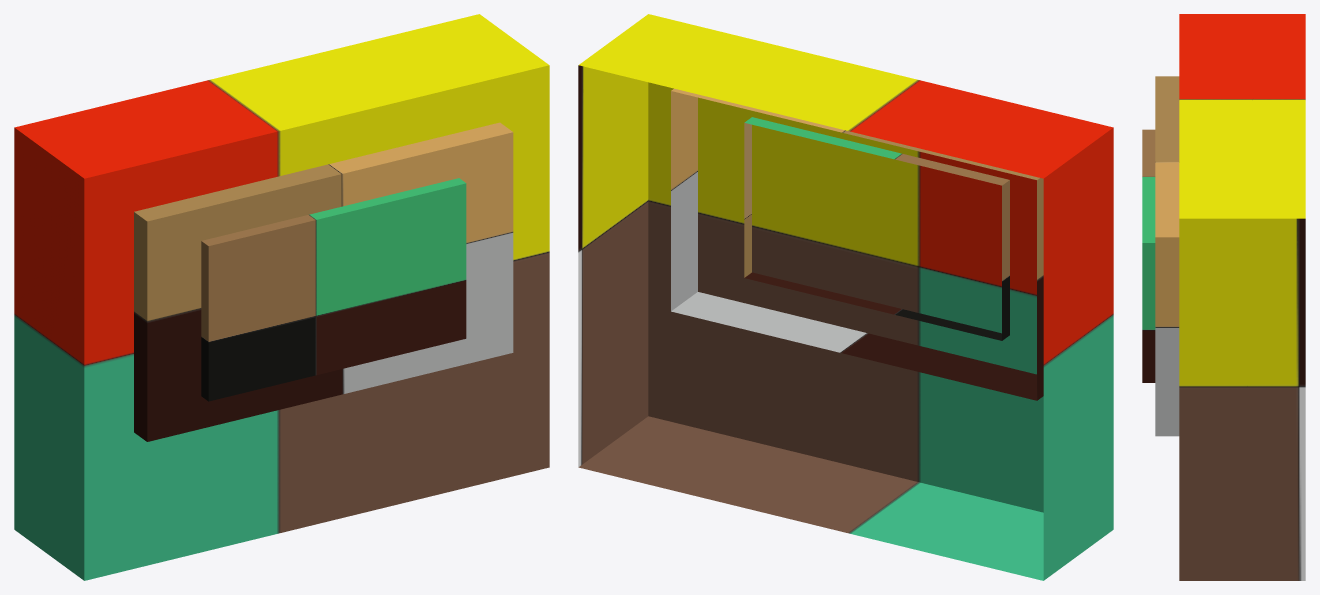
Rendered from New Alarm Week 2.fbx.
3 renders of one model, left to right at view 1: azimuth 30°, elevation 25°; view 2: azimuth 150°, elevation 25°; view 3: azimuth 270°, elevation 25°, orthographic. The views are drawn at different scales.
Visible parts, largest first — view 1: pasted__pCube4; view 2: pasted__pCube4; view 3: pasted__pCube4.
Boxes of the visible parts, <box> form: pasted__pCube4: <box>14,14,549,580</box>; pasted__pCube4: <box>578,14,1113,580</box>; pasted__pCube4: <box>1142,14,1305,580</box>.
Bounding box in the file's own units: 9.82 × 8.12 × 3.31.
